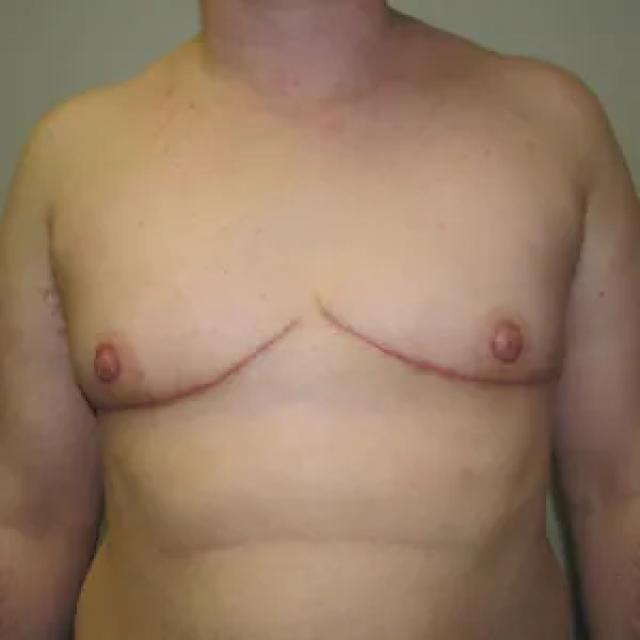Seno herido: (316, 204, 572, 442), (50, 202, 305, 440)
